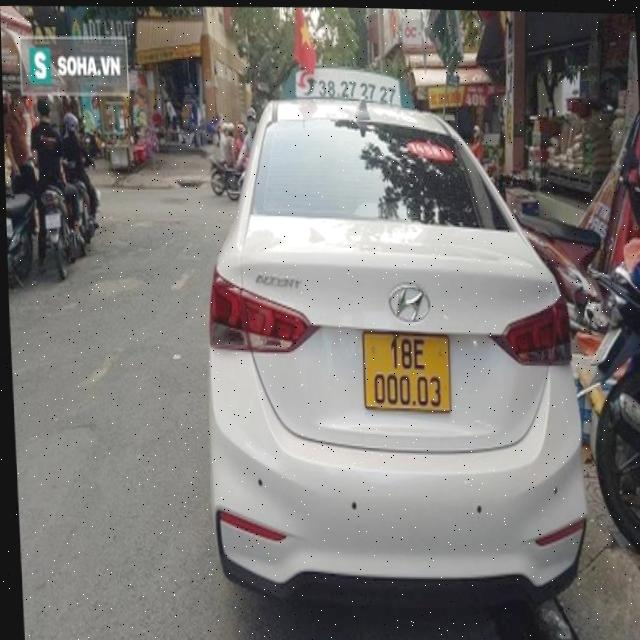car: (191, 66, 593, 631)
motorcycle: (559, 124, 640, 627), (13, 152, 86, 303)
plate: (350, 322, 461, 417), (40, 209, 65, 233)
